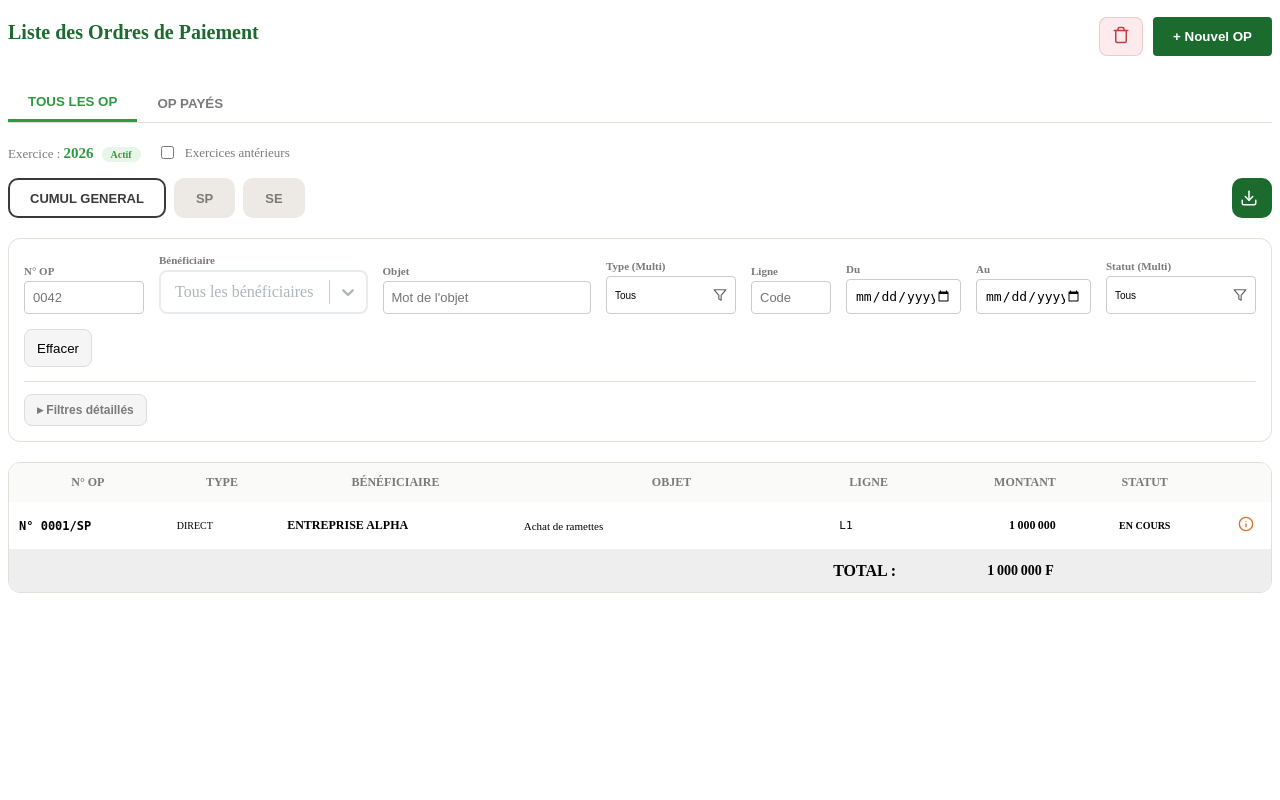
Test: Liste OP — l'aperçu › un OP déjà différé montre son historique dans l'aperçu
Click the button titled "Suivi détaillé de l'OP N°0001/SP" at (1246, 526), box [1234,512,1258,539]
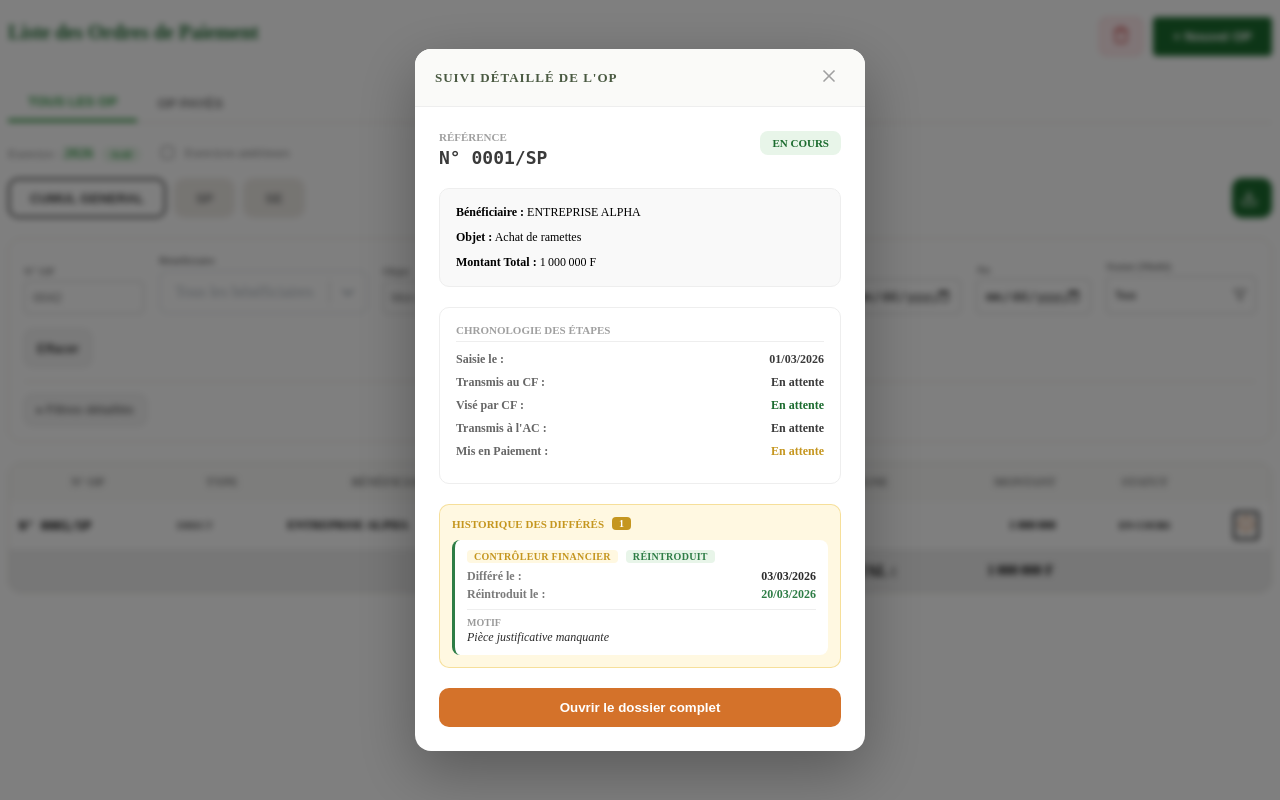
expect the text "HISTORIQUE DES DIFFÉRÉS" is shown: met, box [452,518,604,530]
expect the text "Pièce justificative manquante" is shown: met, box [467,630,609,644]
